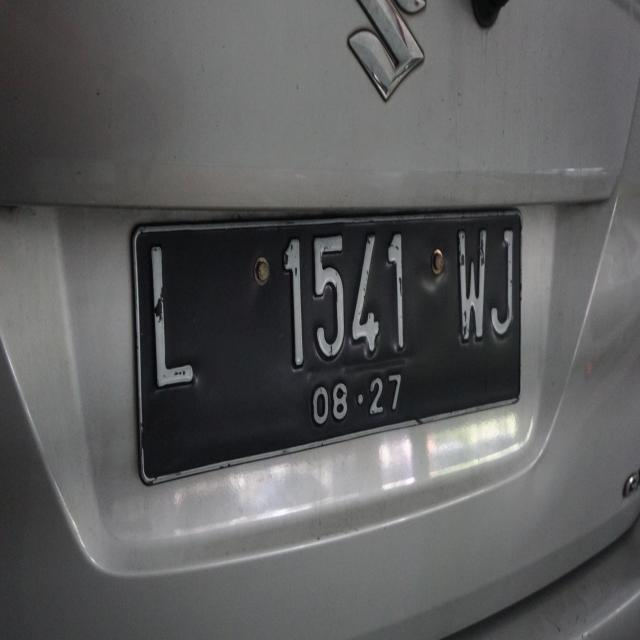1: (277, 232, 313, 380), (378, 228, 416, 358)
4: (346, 230, 383, 358)
5: (306, 229, 349, 368)
J: (489, 222, 515, 344)
L: (138, 245, 201, 391)
W: (446, 226, 489, 350)
